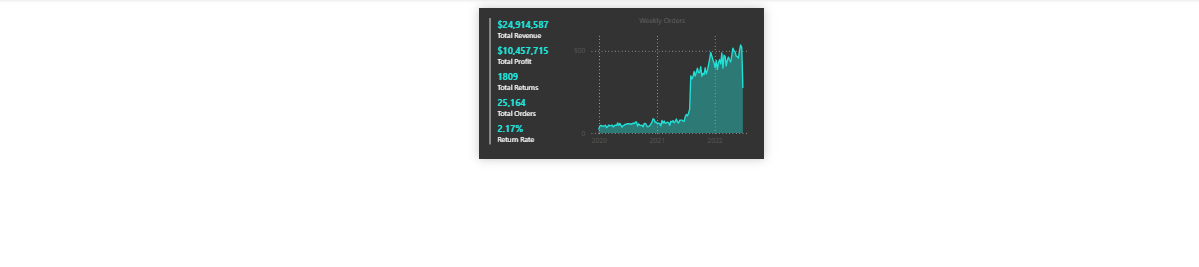

What the dashboard file says about the page in this screenshot:
{"tool":"powerbi","page":{"name":"Category Tooltip","canvas":[425,225],"ordinal":4},"visuals":[{"type":"multiRowCard","fields":{"Values":["Measure Table.Total Revenue","Measure Table.Total Profit","Measure Table.Total Returns","Measure Table.Total Orders","Measure Table.Return Rate"]},"box":[10,10,126,205],"z":0},{"type":"areaChart","title":"Weekly Orders","fields":{"Category":["Calendar Lookup.Start of Week"],"Y":["Measure Table.Total Orders"]},"box":[136,10,275,205],"z":1000}]}

Visuals, with their boxes on the page's 425x225 design canvas (x1, y1, x2, y2). These are canvas units, not pixel positions in the 1199x267 screenshot, which may show the page scaled, cropped or inside an application window:
multiRowCard - Measure Table.Total Revenue x Measure Table.Total Profit: select_region(10, 10, 136, 215)
"Weekly Orders" areaChart: select_region(136, 10, 411, 215)
